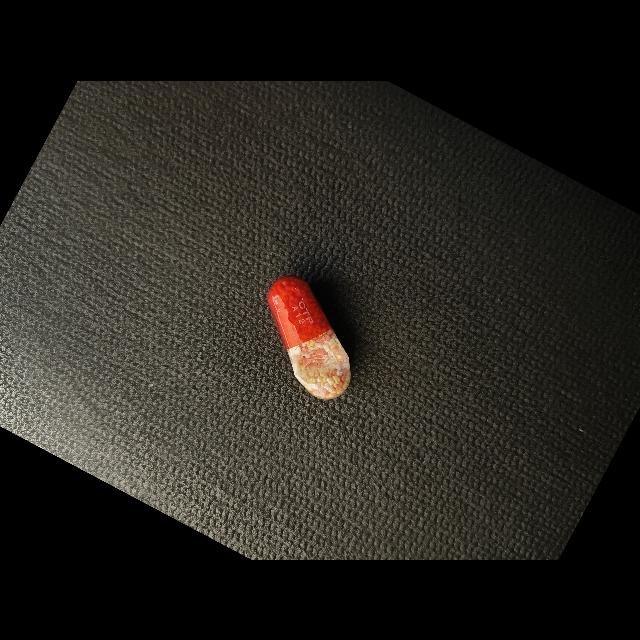Defective Capsule: (267, 276, 351, 399)
